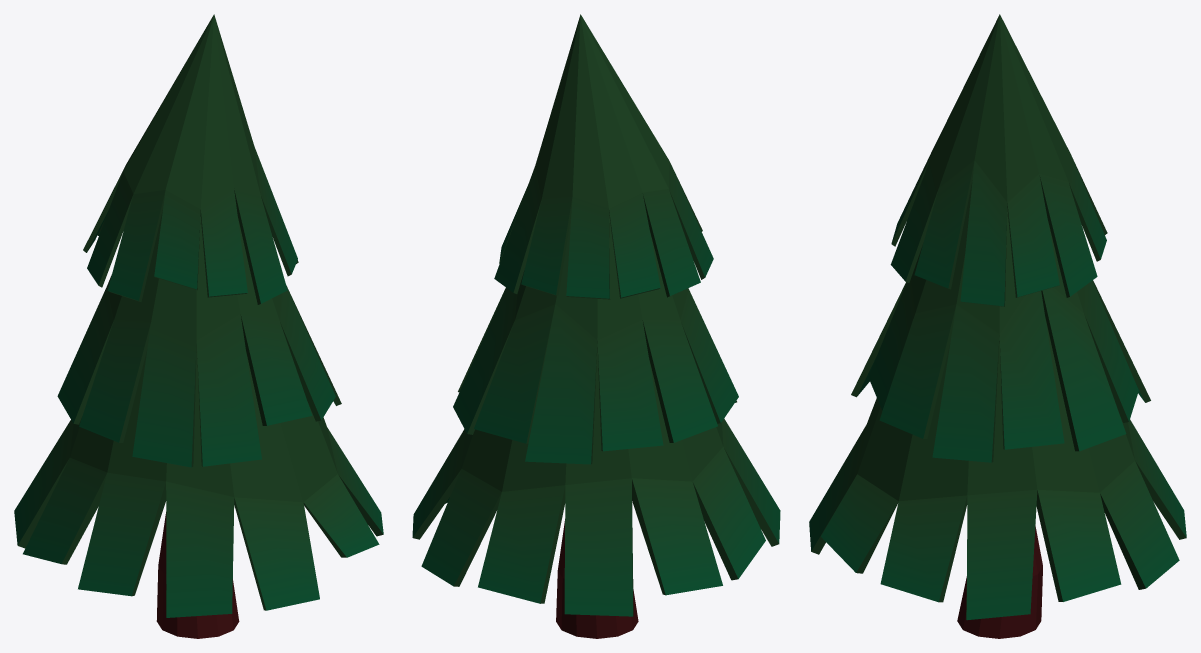
Rendered from tree_1_3.fbx.
3 views of the same model, side by side, from view 1: azimuth 30°, elevation 25°; view 2: azimuth 150°, elevation 25°; view 3: azimuth 270°, elevation 25° (orthographic).
Visible parts, largest first — view 1: tree_1_3; view 2: tree_1_3; view 3: tree_1_3.
Boxes of the visible parts, x1,y1,x2,y2 form: tree_1_3: [14, 14, 383, 638]; tree_1_3: [412, 14, 780, 638]; tree_1_3: [809, 14, 1186, 638].
Bounding box in the file's own units: 1.76 × 1.77 × 3.19.
